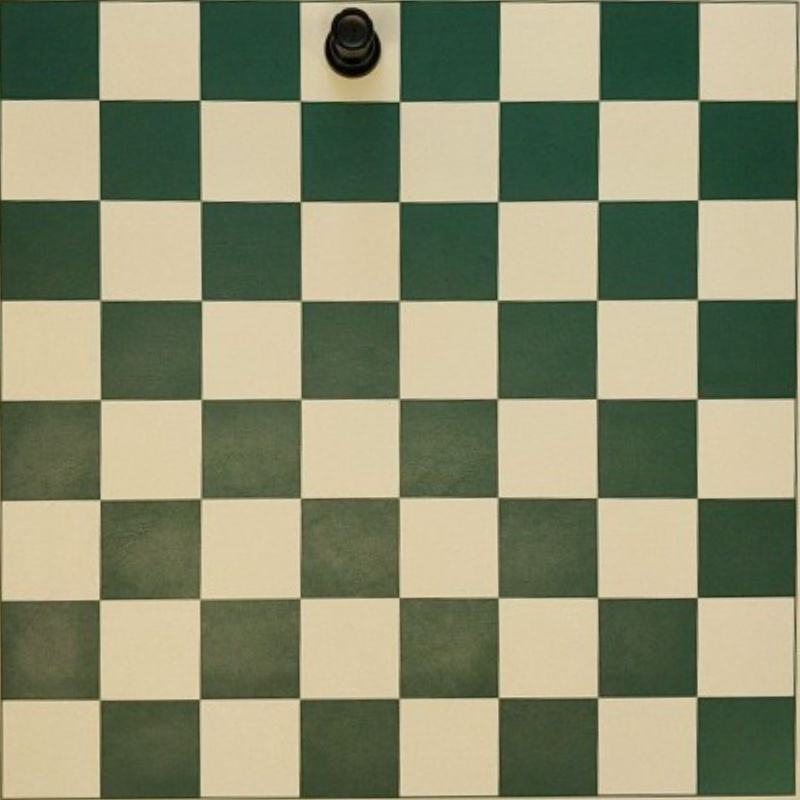black-rook: (324, 8, 382, 76)
